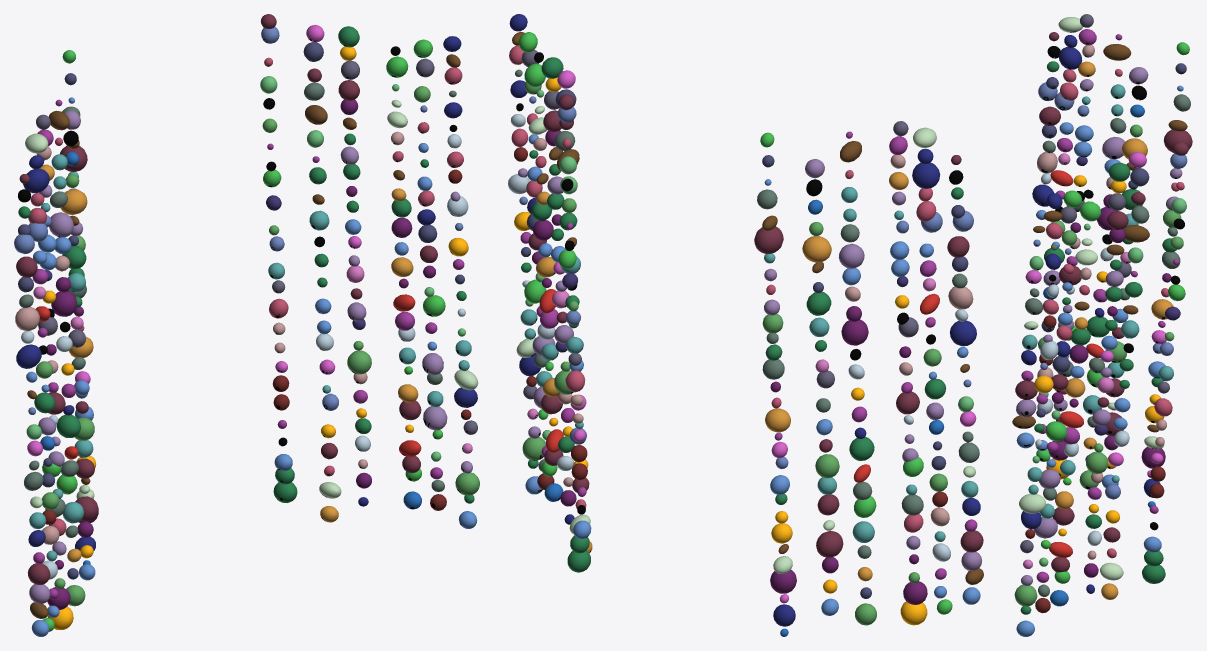
Rendered from 06_Olympic_Scene_Characters.glb.
3 renders of one model, left to right at view 1: azimuth 30°, elevation 25°; view 2: azimuth 150°, elevation 25°; view 3: azimuth 270°, elevation 25°, orthographic. The views are drawn at different scales.
Parts seen in each view (by area): view 1: no part large enough to name; view 2: no part large enough to name; view 3: 06_Potatoe_103, 06_Potatoe_198, 06_Potatoe_282, 06_Potatoe_255, 06_Potatoe_288, 06_Potatoe_122, 06_Potatoe_275, 06_Potatoe_014, 06_Potatoe_307, 06_Potatoe_189, 06_Potatoe_296, 06_Potatoe_268 (+32 smaller).
Boxes of the visible parts, x1=… form: 06_Potatoe_103: x1=1019, y1=493, x2=1045, y2=513; 06_Potatoe_198: x1=1059, y1=47, x2=1082, y2=69; 06_Potatoe_282: x1=1163, y1=129, x2=1192, y2=153; 06_Potatoe_255: x1=1102, y1=136, x2=1124, y2=159; 06_Potatoe_288: x1=1086, y1=451, x2=1107, y2=473; 06_Potatoe_122: x1=1014, y1=584, x2=1037, y2=606; 06_Potatoe_275: x1=1103, y1=44, x2=1131, y2=60; 06_Potatoe_014: x1=1123, y1=225, x2=1149, y2=242; 06_Potatoe_307: x1=1142, y1=564, x2=1165, y2=583; 06_Potatoe_189: x1=1086, y1=316, x2=1109, y2=337; 06_Potatoe_296: x1=1033, y1=517, x2=1057, y2=538; 06_Potatoe_268: x1=1037, y1=152, x2=1057, y2=173.
Bounding box in the file's own units: 98.55 × 106 × 36.85.
